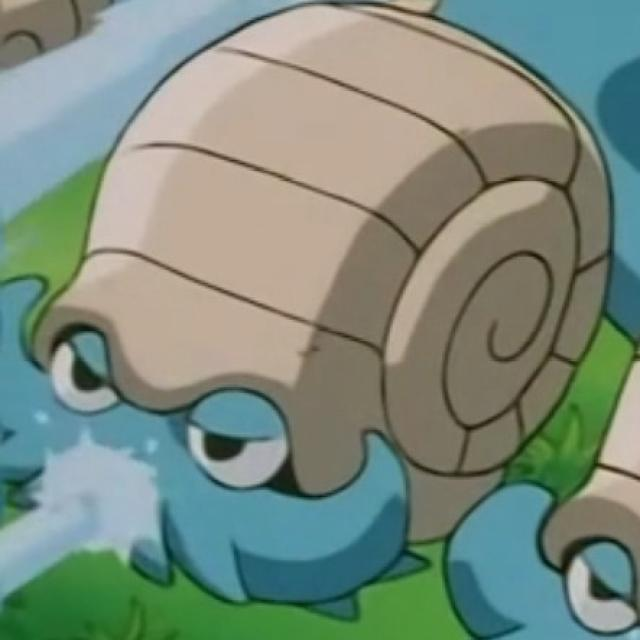Omanyte: (32, 0, 574, 518)
